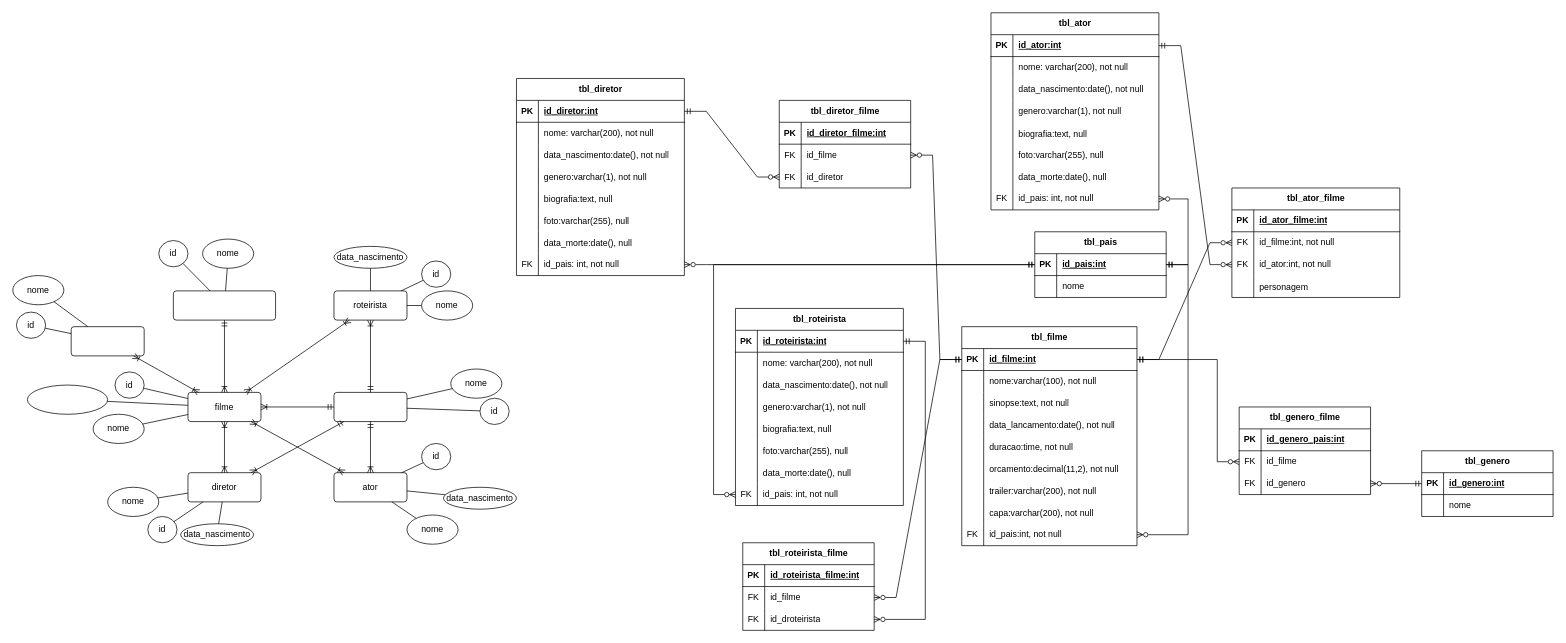
Image size: 1566x643. Some labels were removed from this diagram. The shapes that lost their labels are listed below. From the top down, each one's centre as x and y in pixels, then its label:
At pixel 224 305: "classificacao_indicativa".
At pixel 107 341: "gênero".
At pixel 67 399: "data_lancamento".
At pixel 370 407: "país".
